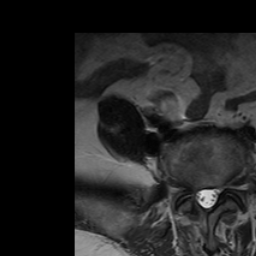CCS_normal: (202, 181, 212, 215)
LFS_stenosis: (220, 175, 229, 198)
LLS_normal: (211, 180, 221, 208)
RFS_severe_stenosis: (185, 179, 194, 202)
RLS_normal: (193, 183, 203, 213)
